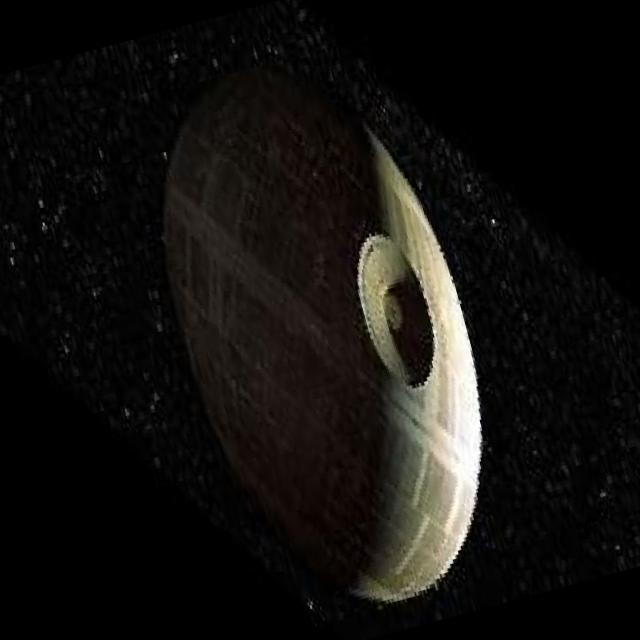Death Star: (110, 20, 537, 640)
